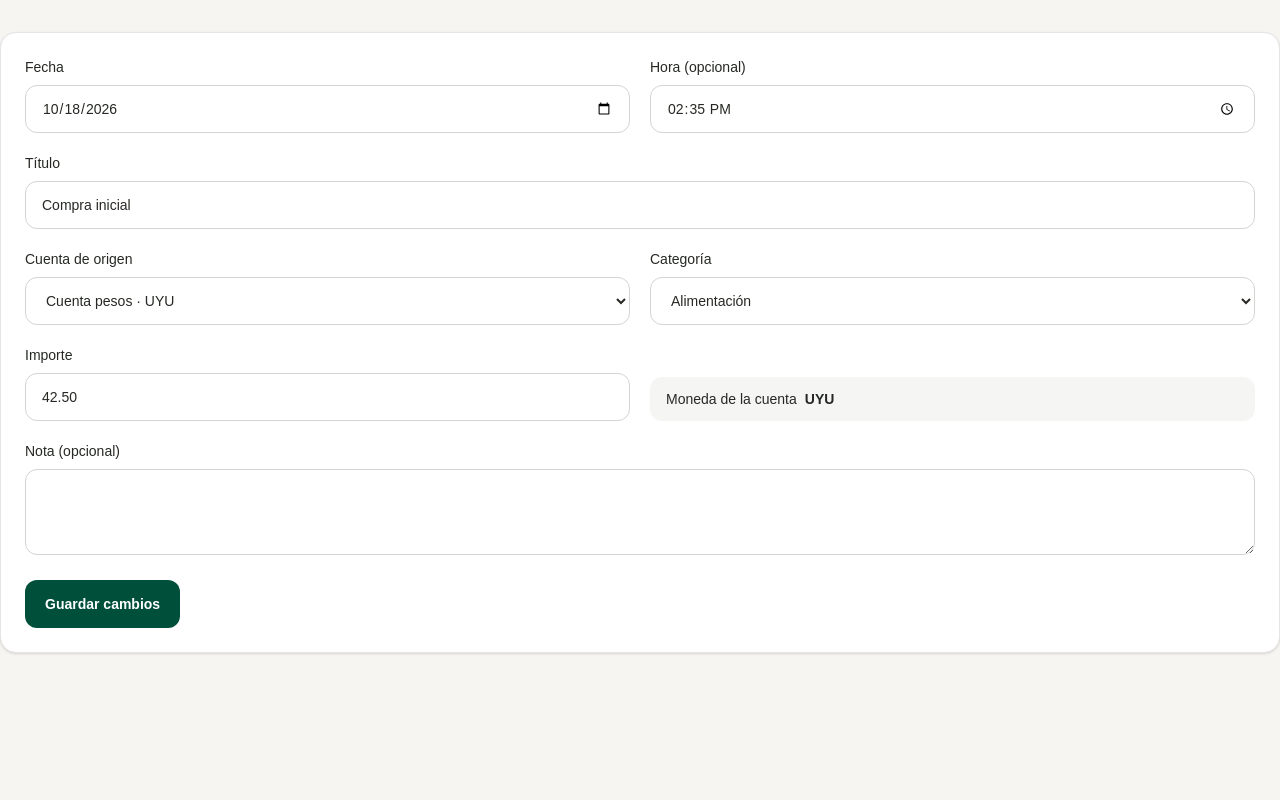
Test: edición de gastos › explica una corrección inválida y conserva lo escrito
Replace the text in the field labelled "Importe" with "-1" at (328, 397), box [25, 373, 630, 421]
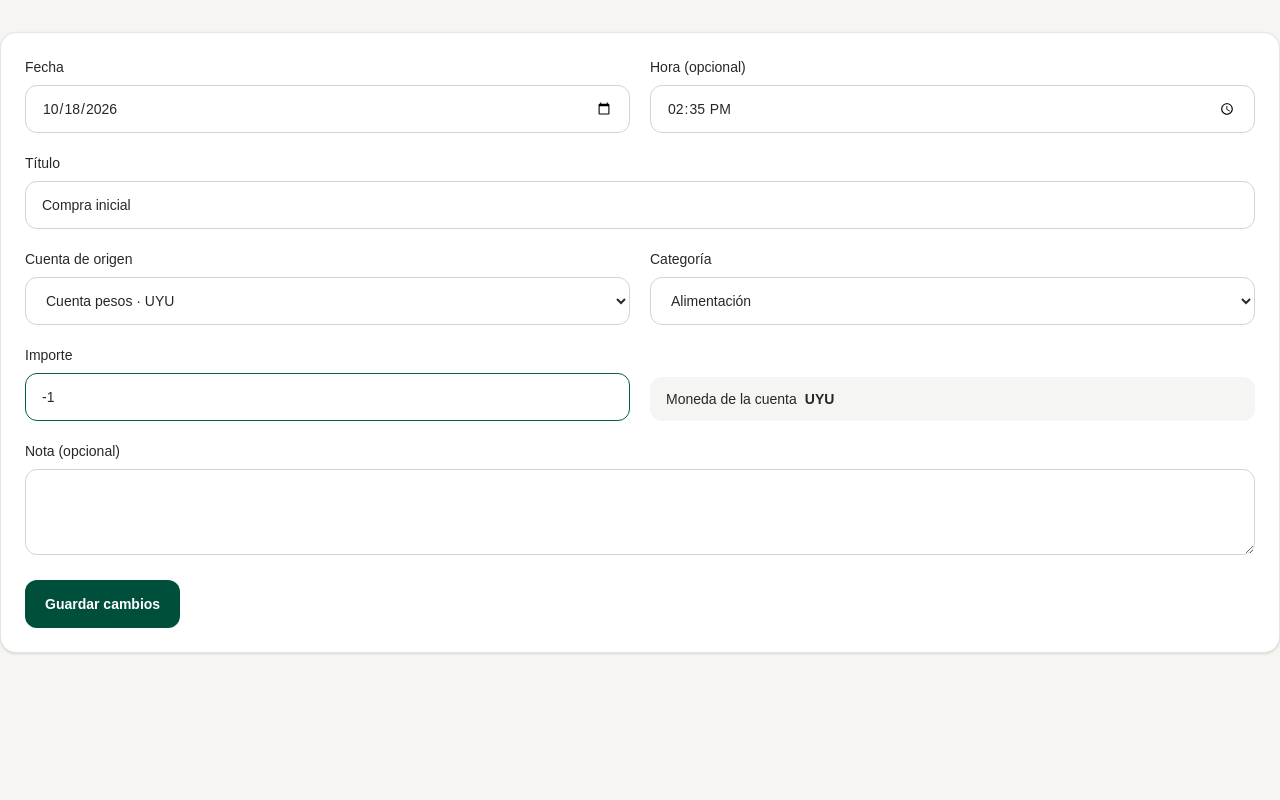
Click the button "Guardar cambios" at (103, 604), box [25, 580, 180, 628]
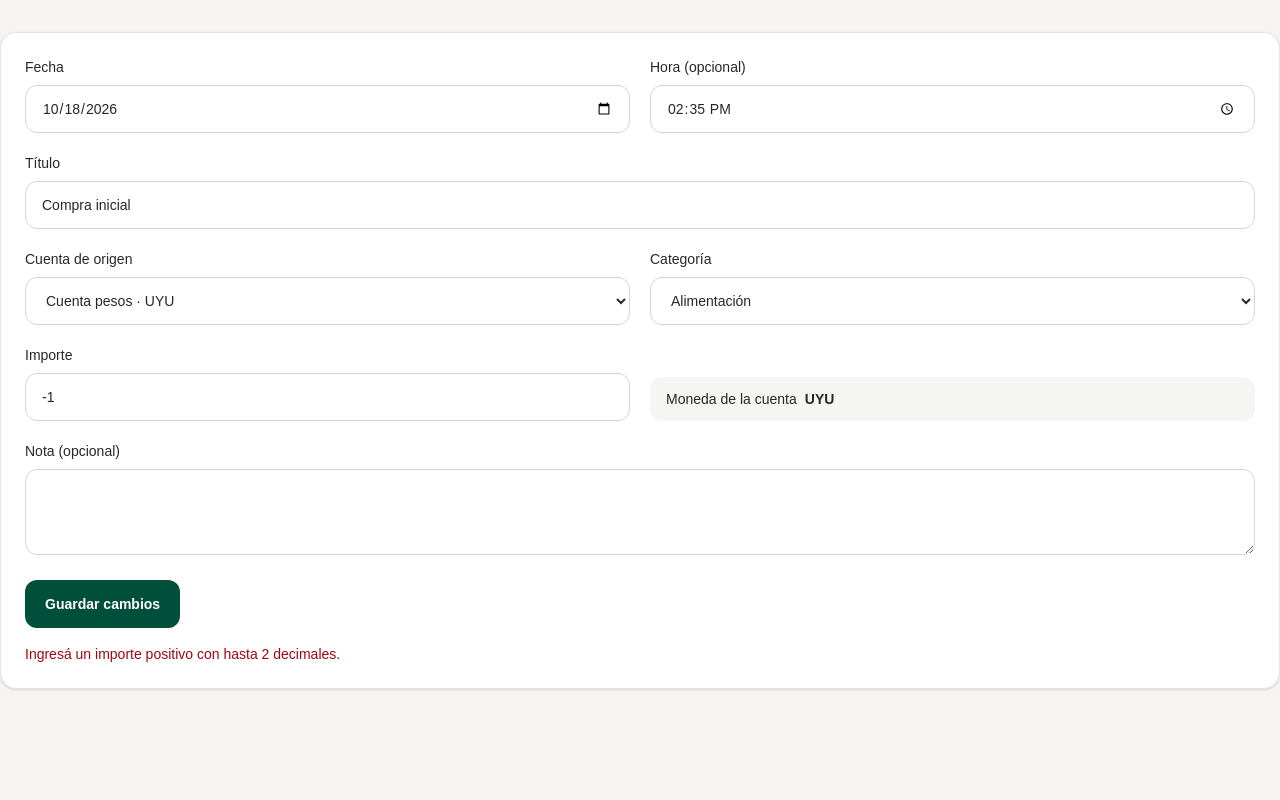
expect the message shows "importe positivo": met, box [25, 646, 340, 662]
